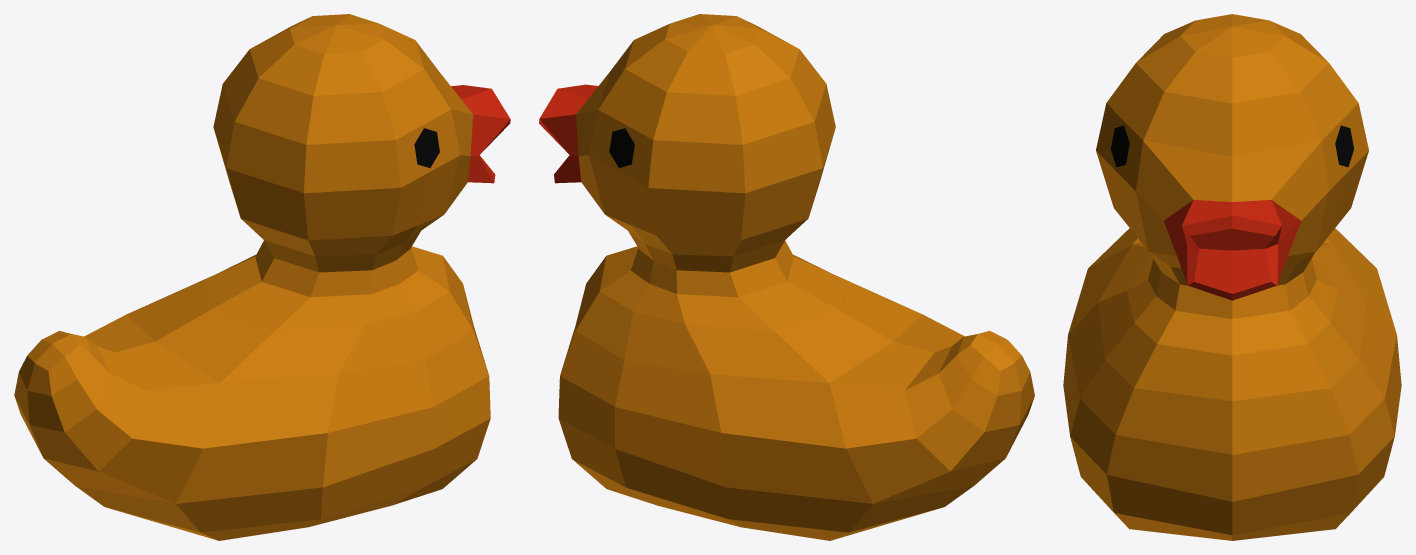
The model's file is Rubber_Duck_obj.obj.
The picture shows the model from 3 angles, left to right: view 1: azimuth 30°, elevation 25°; view 2: azimuth 150°, elevation 25°; view 3: azimuth 270°, elevation 25°; orthographic projection. The views are drawn at different scales.
Visible parts, largest first — view 1: Rubber_Duck_Sphere.003; view 2: Rubber_Duck_Sphere.003; view 3: Rubber_Duck_Sphere.003.
Part boxes in pixels (x1,y1,x2,y2): Rubber_Duck_Sphere.003: [14, 14, 510, 540]; Rubber_Duck_Sphere.003: [539, 14, 1034, 540]; Rubber_Duck_Sphere.003: [1063, 14, 1401, 540].
Bounding box in the file's own units: 0.1896 × 0.1715 × 0.1113.
